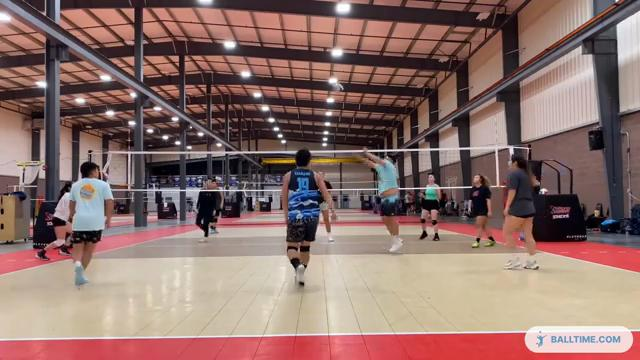alzata: (350, 142, 407, 255)
